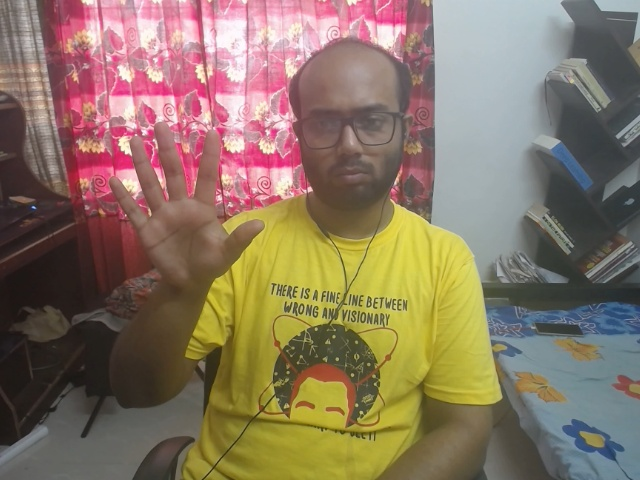five: (112, 118, 273, 294)
